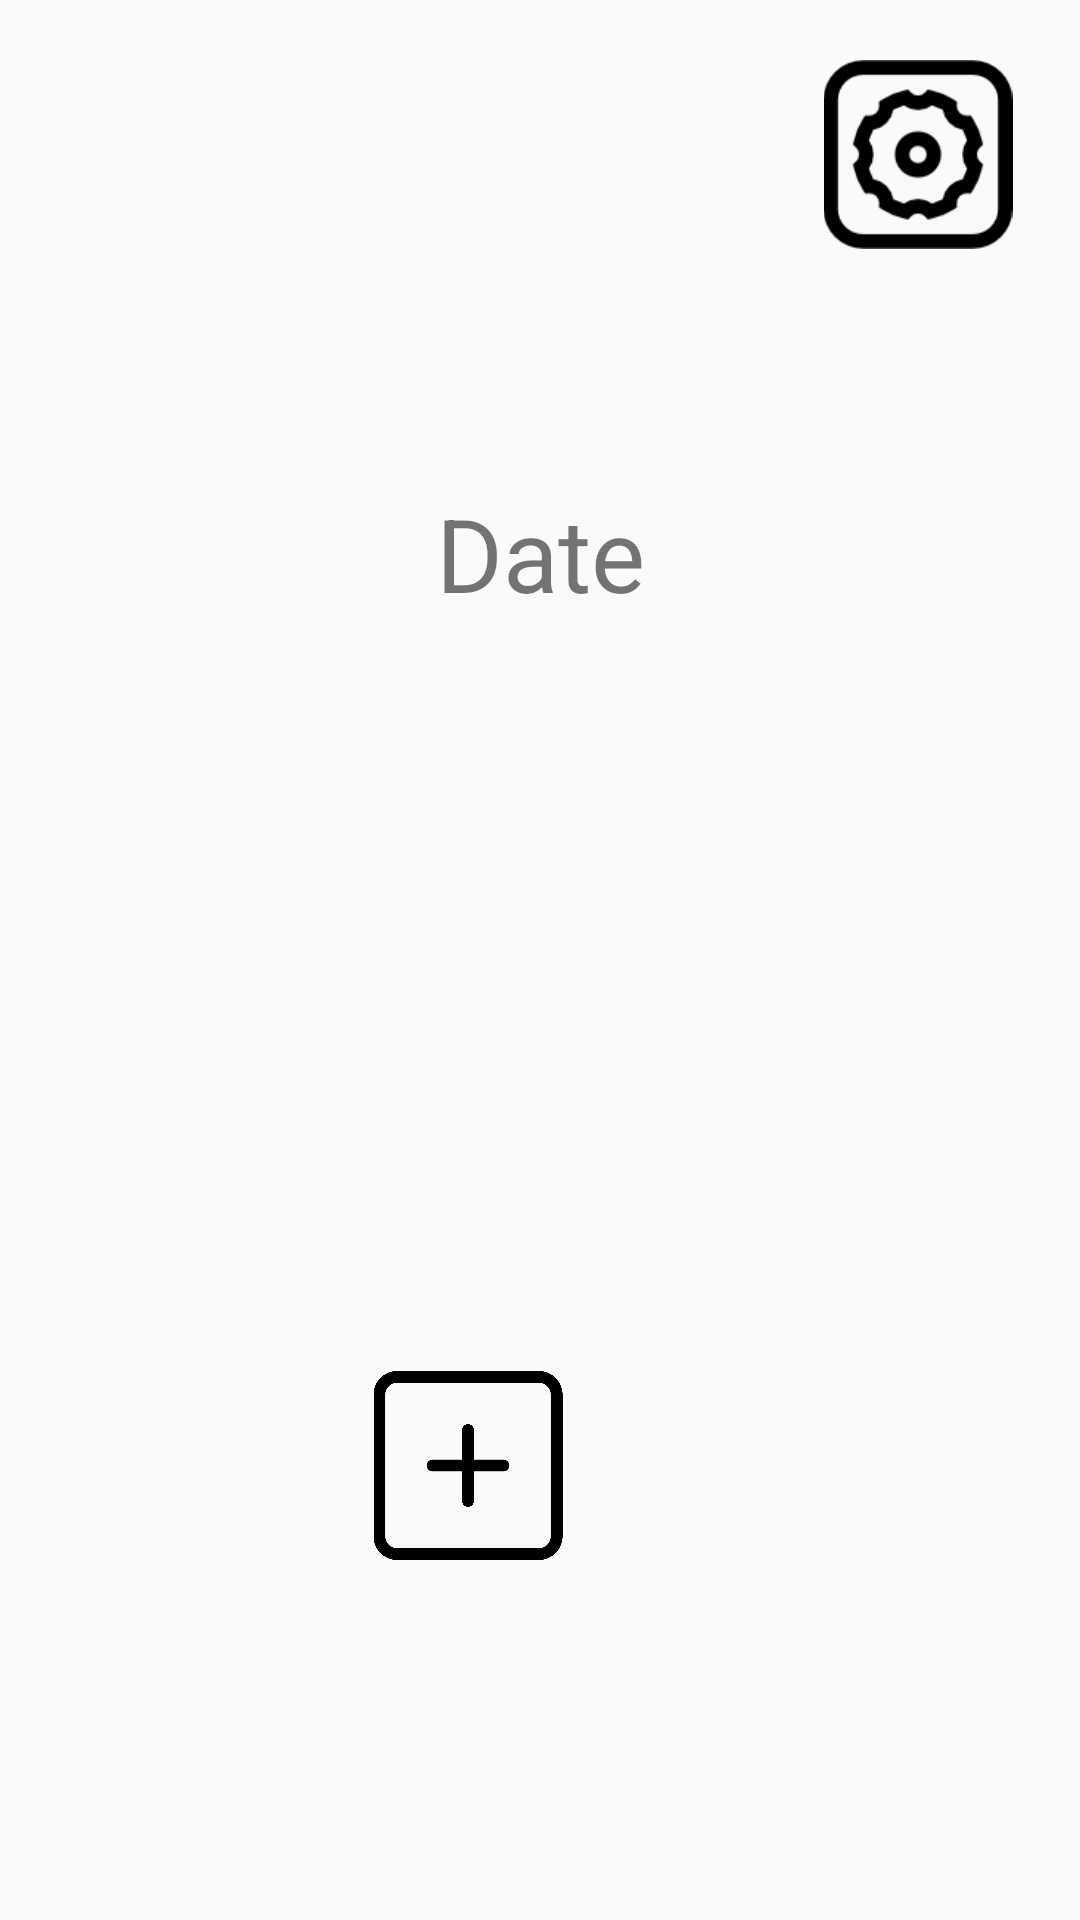

Locate icon controls on the screen. Image size 1080x1920, boxes as [x1, y1, x2, y2].
addsign ib: [374, 1371, 563, 1560]
setting ib: [824, 60, 1013, 249]
